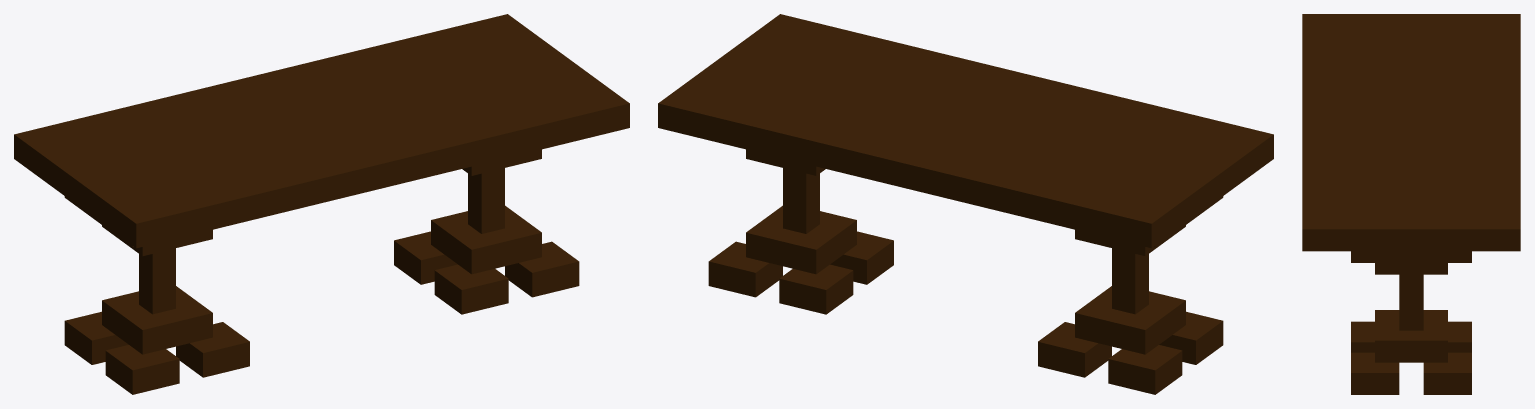
The model's file is BigTable1.obj.
3 renders of one model, left to right at view 1: azimuth 30°, elevation 25°; view 2: azimuth 150°, elevation 25°; view 3: azimuth 270°, elevation 25°, orthographic. The views are drawn at different scales.
Parts seen in each view (by area): view 1: BigTable1; view 2: BigTable1; view 3: BigTable1.
Part boxes in pixels (left/top/right/bottom): BigTable1: left=14, top=14, right=629, bottom=394; BigTable1: left=658, top=14, right=1273, bottom=394; BigTable1: left=1302, top=14, right=1520, bottom=394.
Size of the model in its own units: 21 by 8 by 9.
1 material, 1 textured.
